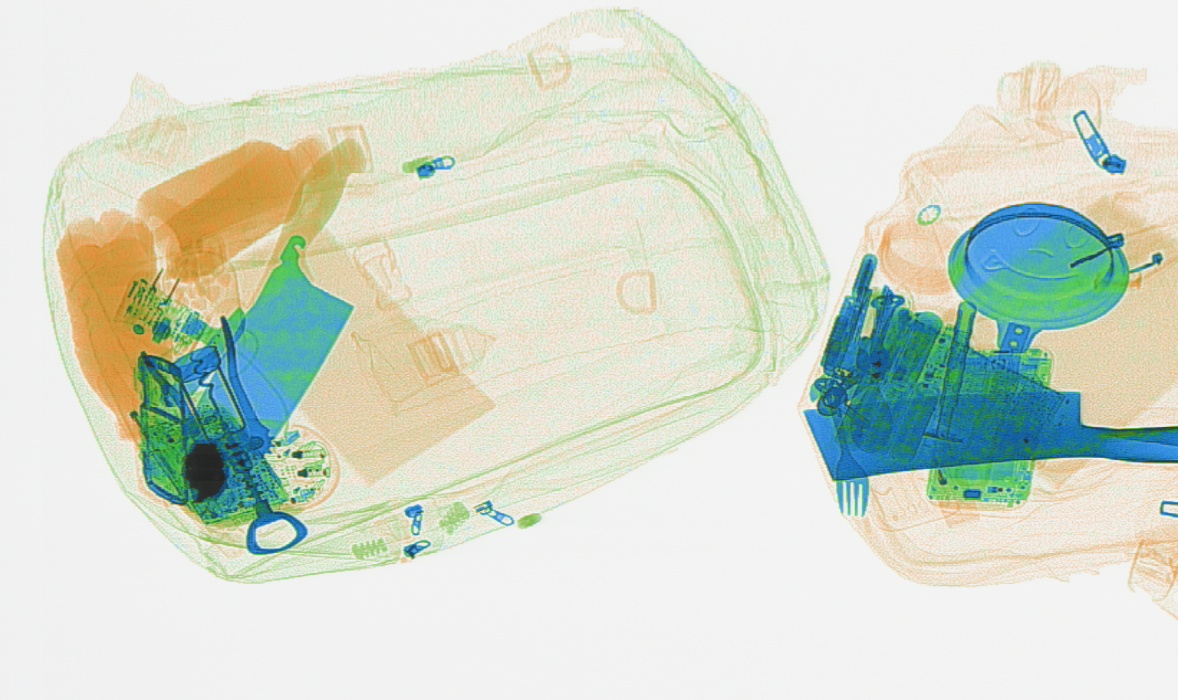knife: (171, 134, 370, 489), (801, 387, 1173, 482)
powerbank: (830, 295, 962, 473)
